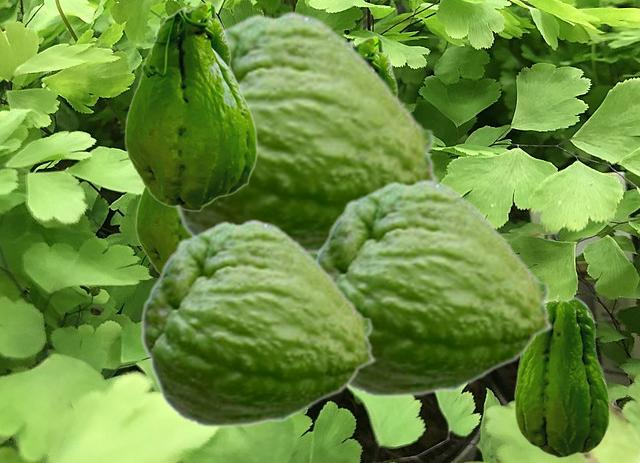sayote: (171, 10, 440, 254), (313, 178, 554, 398), (140, 218, 377, 428), (124, 1, 257, 211), (514, 297, 609, 457), (135, 187, 188, 273), (350, 35, 400, 95)
